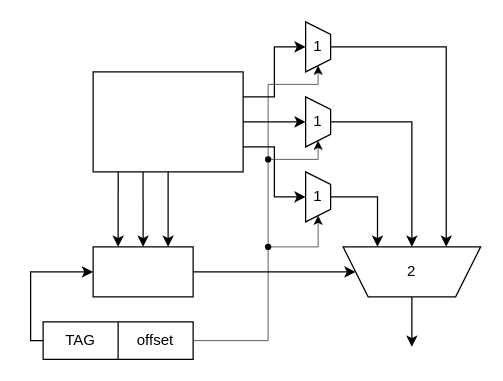
The diagram is 503 pixels wide and 381 high, and some of its shapes have lost their labels. The shapes that lost their labels are listed below. From the top down, each one's centre as x and y in pixels, then its label:
point 167,121: CACHE
point 142,271: FAULT
